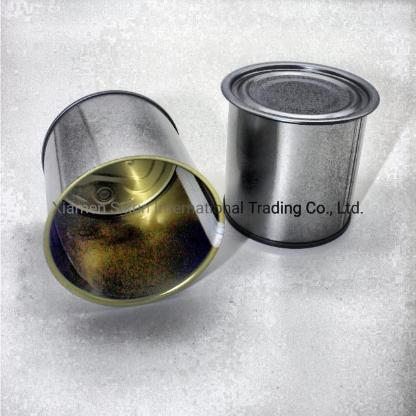Can: (41, 88, 229, 310), (214, 54, 382, 250)
